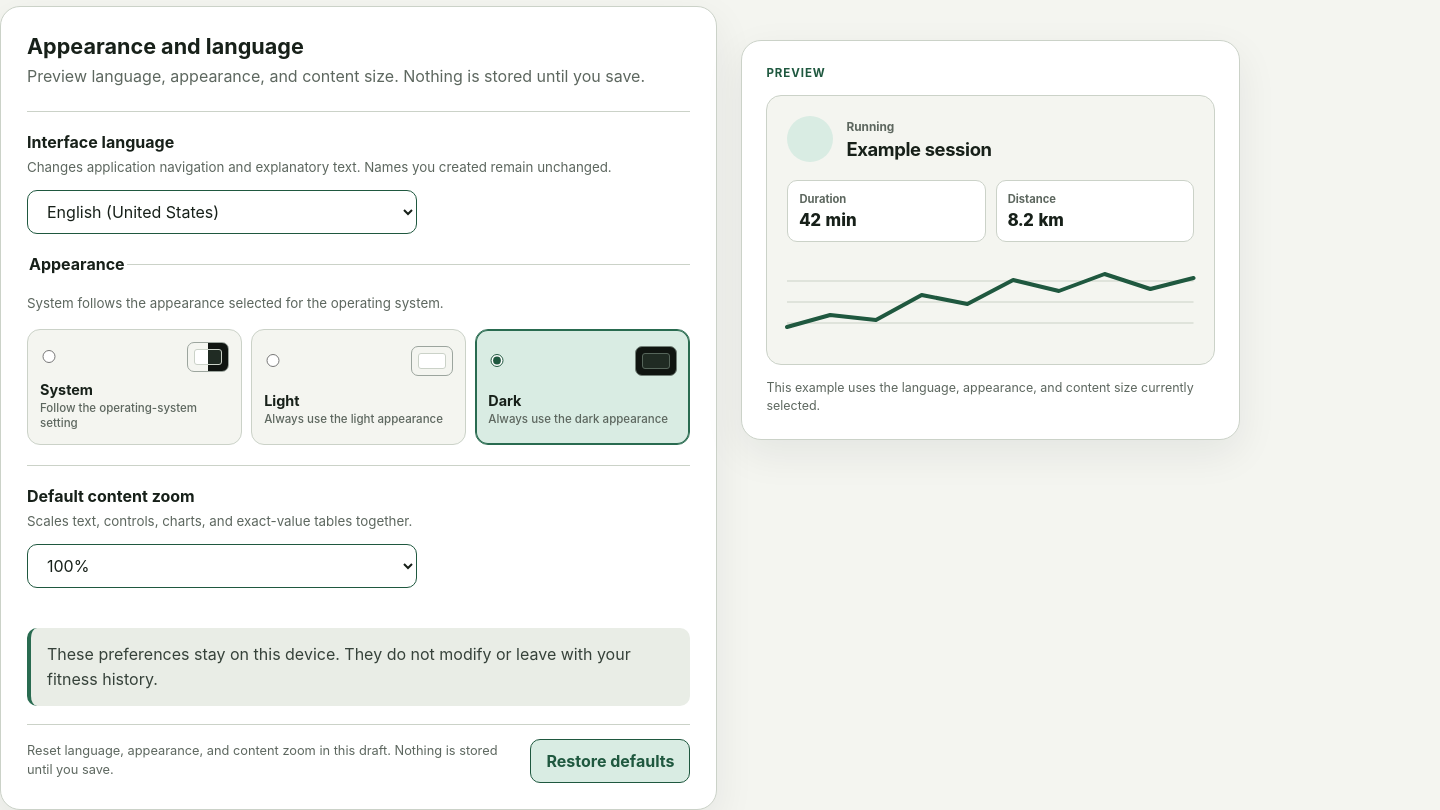
Scenario: SettingsPanel › keeps restoring defaults inside the draft and reserves busy progress for saving
The image size is (1440, 810).
(page scrolled)
Click the button "Restore defaults". click: (610, 761)
box: [530,739,690,783]
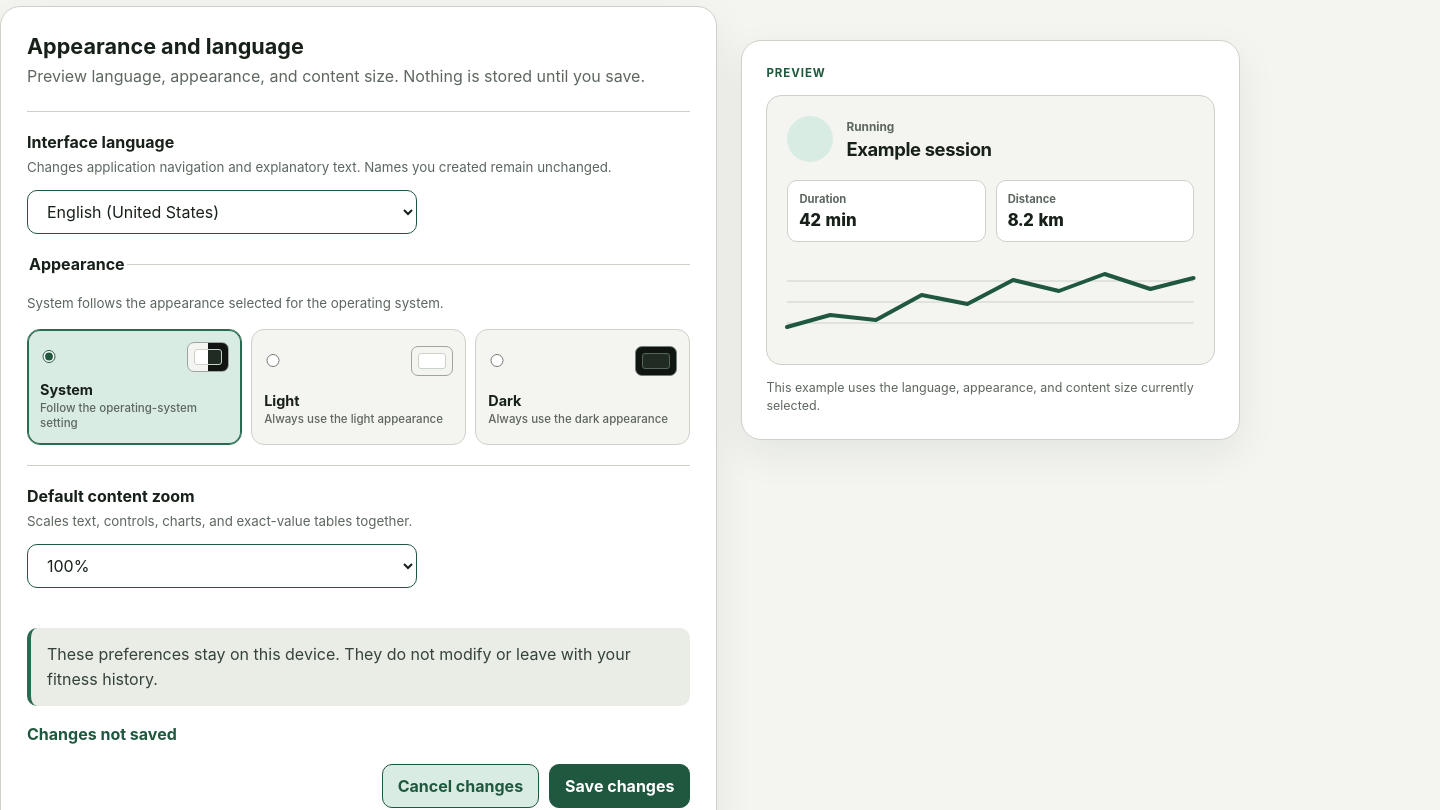
expect the button "Restore defaults" is gone: met
expect the button "Save changes" is enabled: met, box [549,764,690,808]
expect the message reads "Changes not saved": met, box [27,724,177,744]
